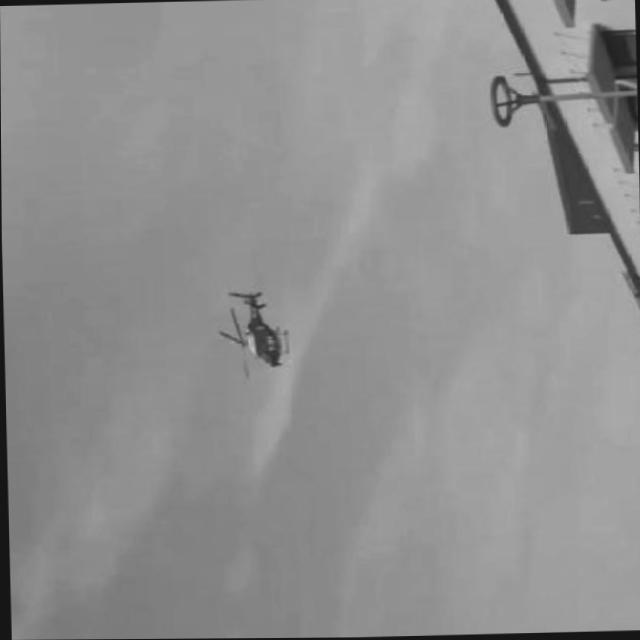helikopter: (206, 278, 306, 385)
